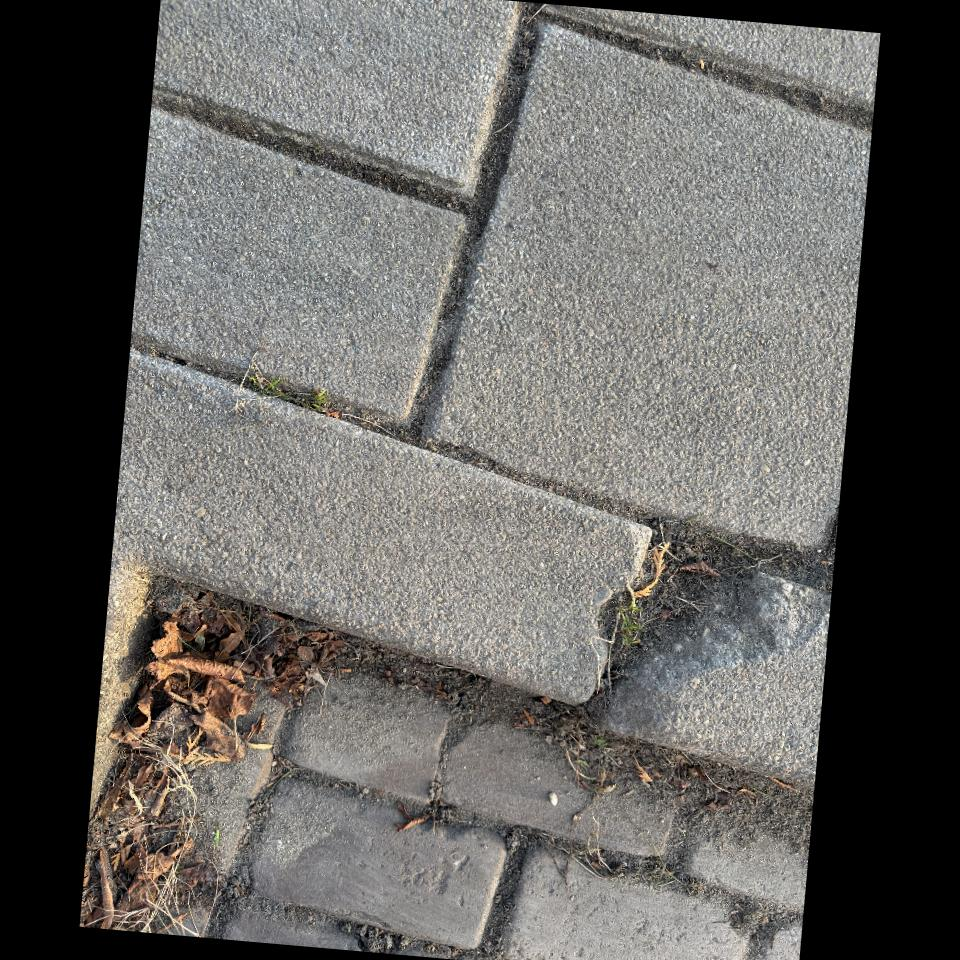weed: (246, 357, 340, 419), (616, 588, 642, 647)
